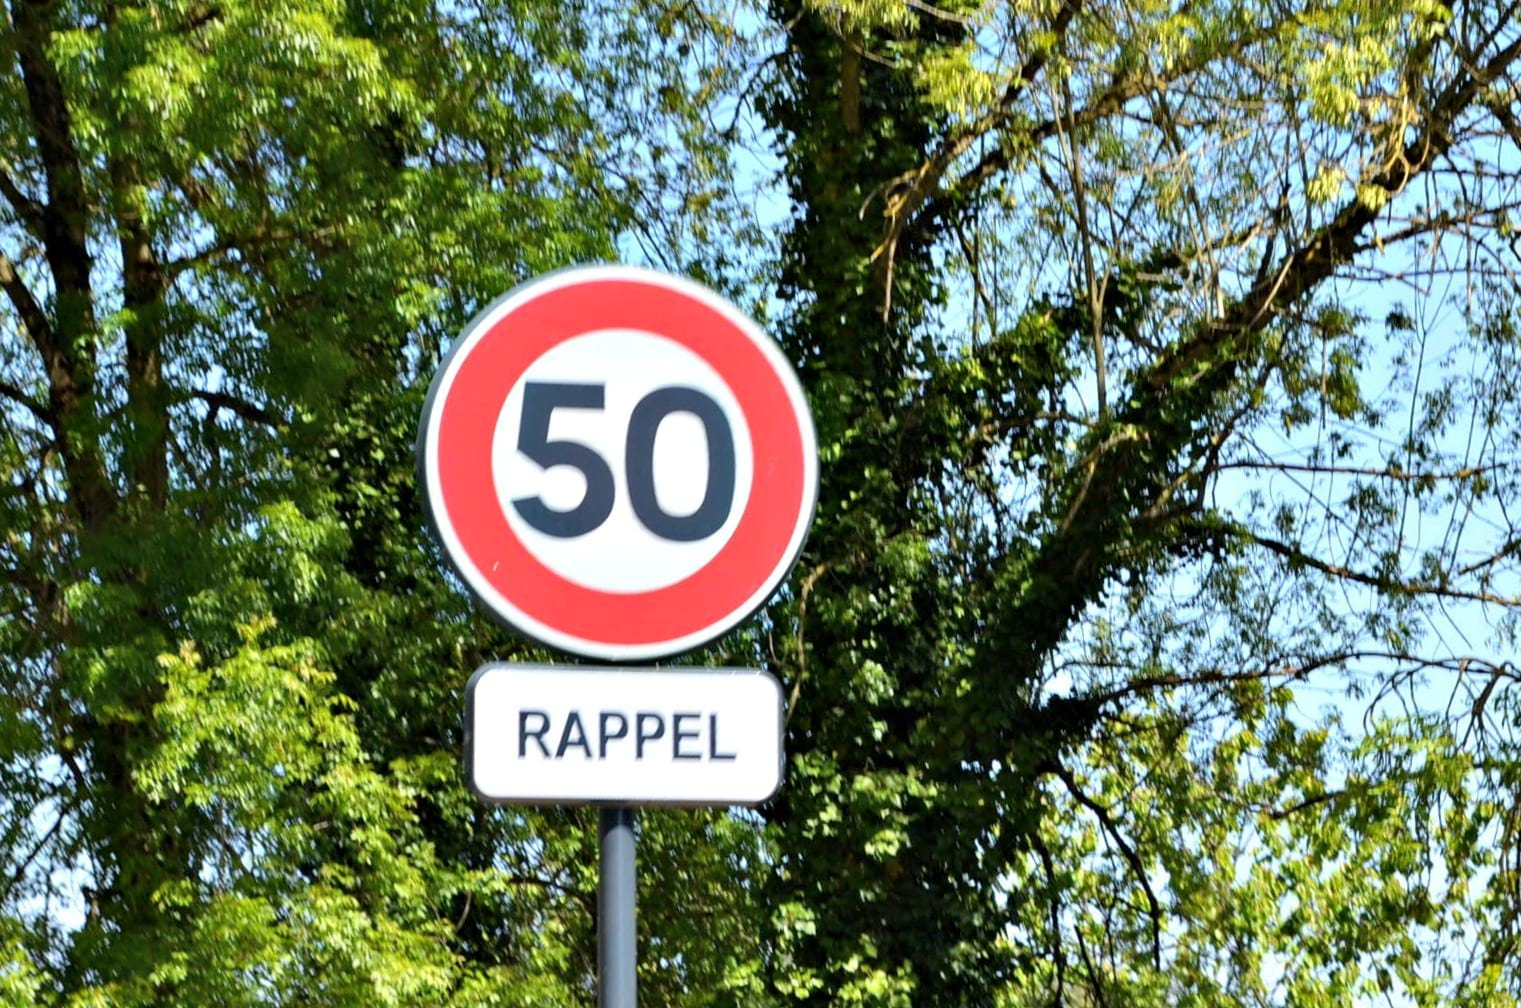Speed_limit_50km: (427, 273, 823, 675)
